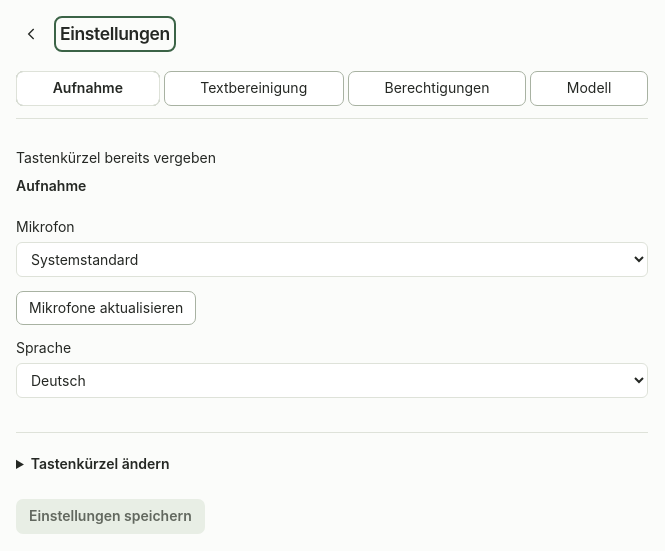
Scenario: reports actual model setup failure and native settings errors without claiming success
Click the button "Modell" at (589, 88), box top-left (530, 71), bottom-right (648, 106)
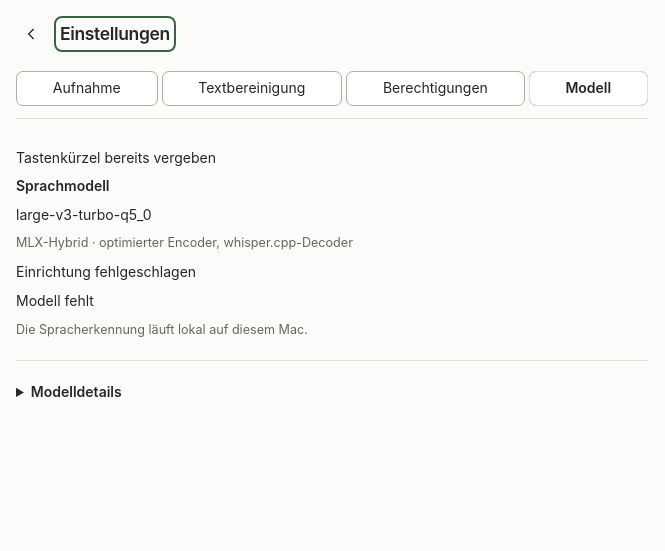
Expected: the text "Einrichtung fehlgeschlagen" is shown, top-left (16, 263), bottom-right (196, 280)
Expected: the messages read "Tastenkürzel bereits vergeben", "Modell fehlt", in this order, top-left (16, 149), bottom-right (216, 166); top-left (16, 292), bottom-right (94, 310)
